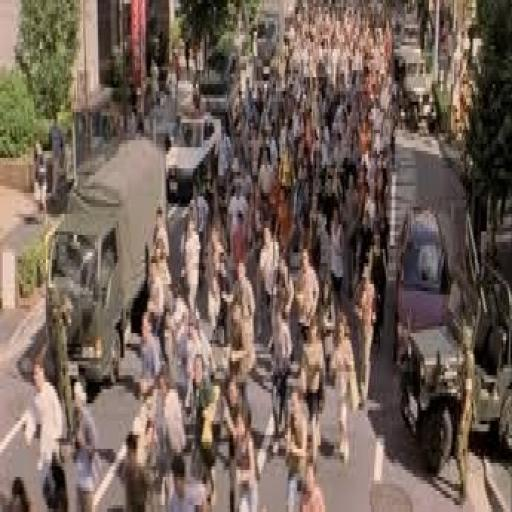running: (4, 4, 400, 508)
